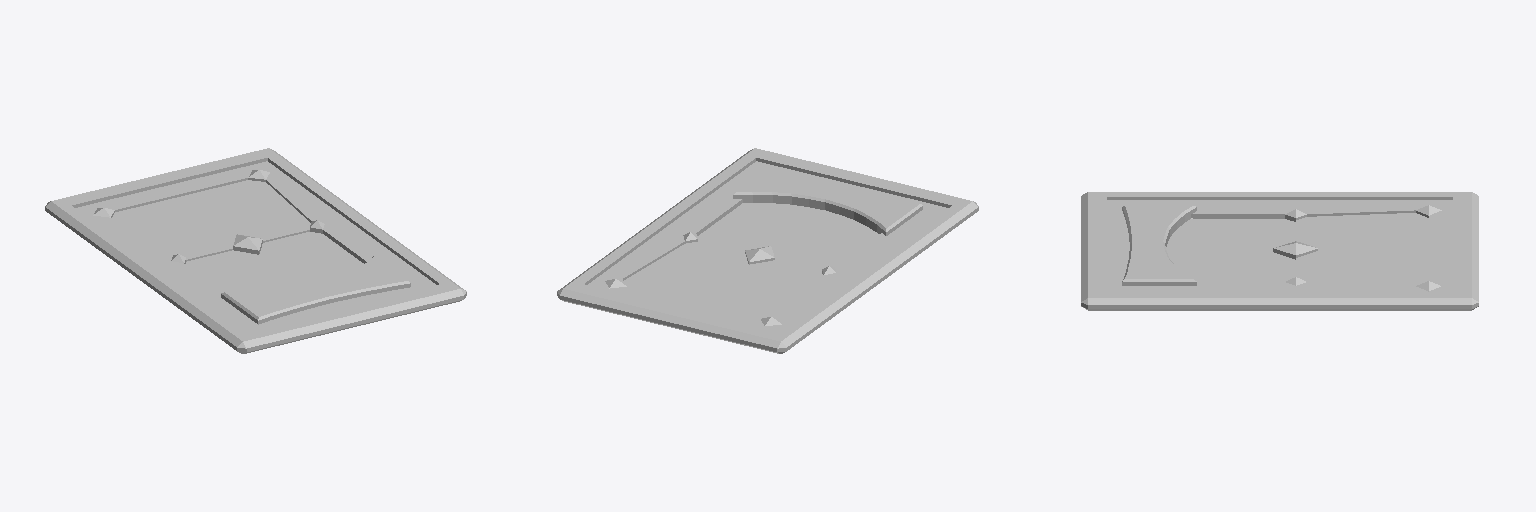
File: card.obj
3 views of the same model, side by side, from view 1: azimuth 30°, elevation 25°; view 2: azimuth 150°, elevation 25°; view 3: azimuth 270°, elevation 25° (orthographic).
Visible parts, largest first — view 1: CardBase_Cube, CardImage_Cube.001; view 2: CardBase_Cube, CardImage_Cube.001; view 3: CardBase_Cube, CardImage_Cube.001.
Boxes of the visible parts, x1=… form: CardBase_Cube: x1=45, y1=148, x2=466, y2=353; CardImage_Cube.001: x1=186, y1=232, x2=363, y2=292; CardBase_Cube: x1=557, y1=148, x2=978, y2=353; CardImage_Cube.001: x1=697, y1=203, x2=878, y2=271; CardBase_Cube: x1=1081, y1=192, x2=1478, y2=310; CardImage_Cube.001: x1=1166, y1=219, x2=1295, y2=281.
Bounding box in the file's own units: 2 × 0.2277 × 3.